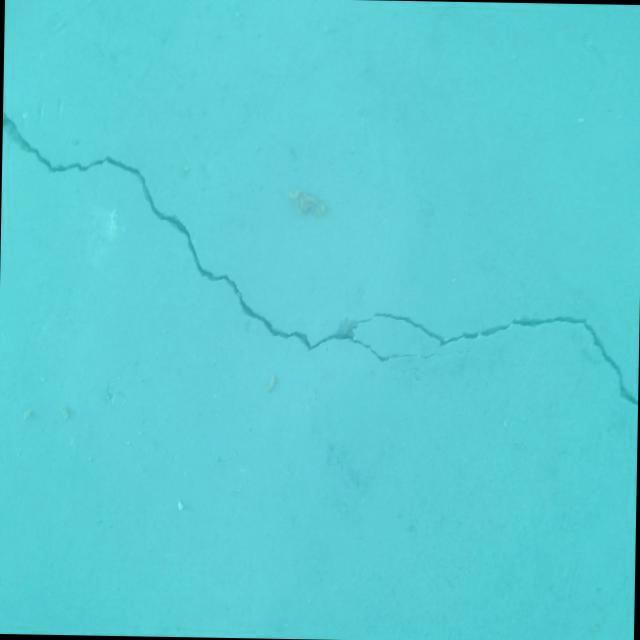crack: (0, 112, 640, 407)
